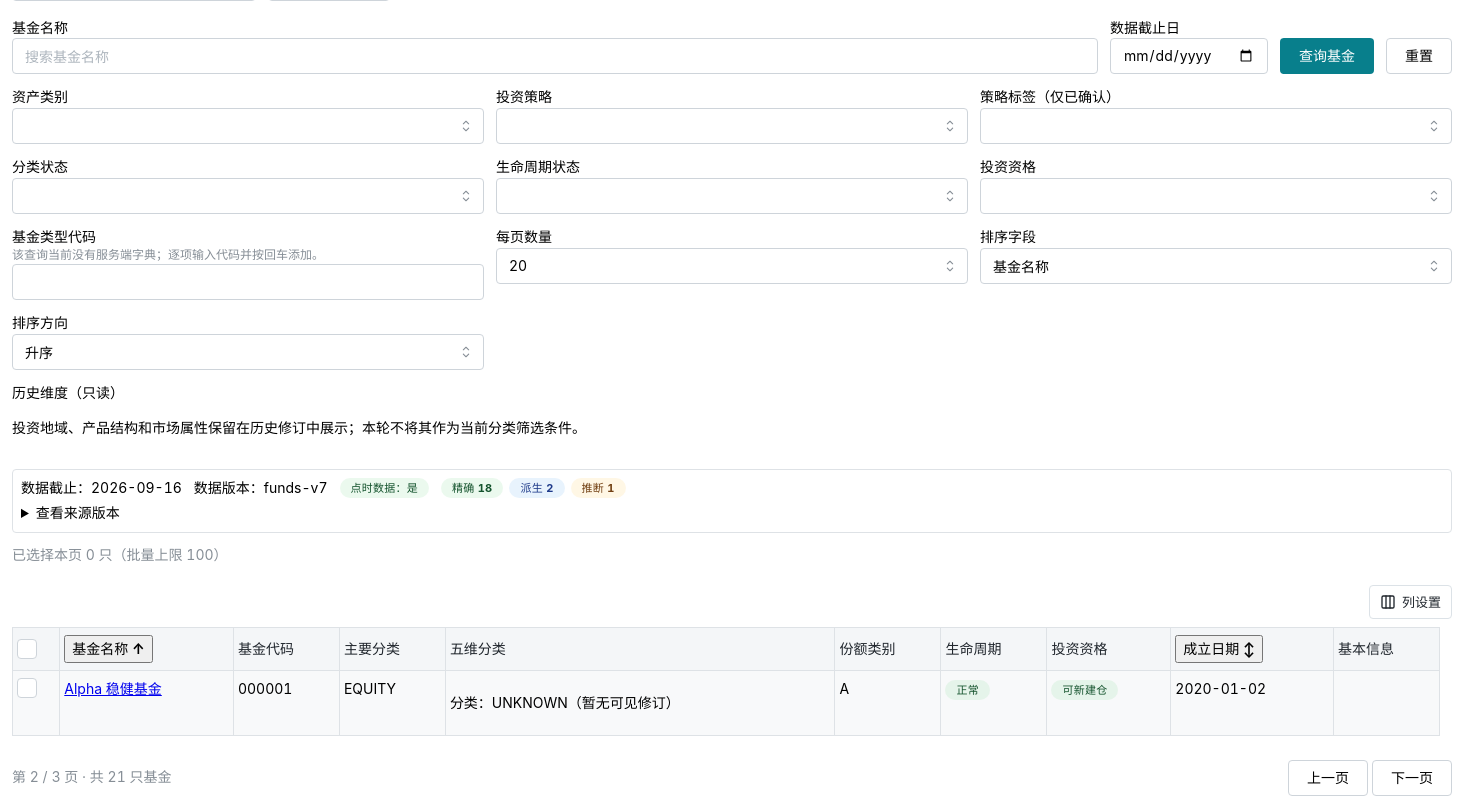
Test: FundResearchPage › shows readable lifecycle and investment eligibility statuses in results
This screenshot has width=1464, height=796.
(page scrolled)
Expected: the link "Alpha 稳健基金" is shown, [64,680,162,697]
Expected: the text "正常" is shown, [956,681,979,699]
Click the checkbox named "选择 Alpha 稳健基金" at (27,688), box [17,678,37,698]
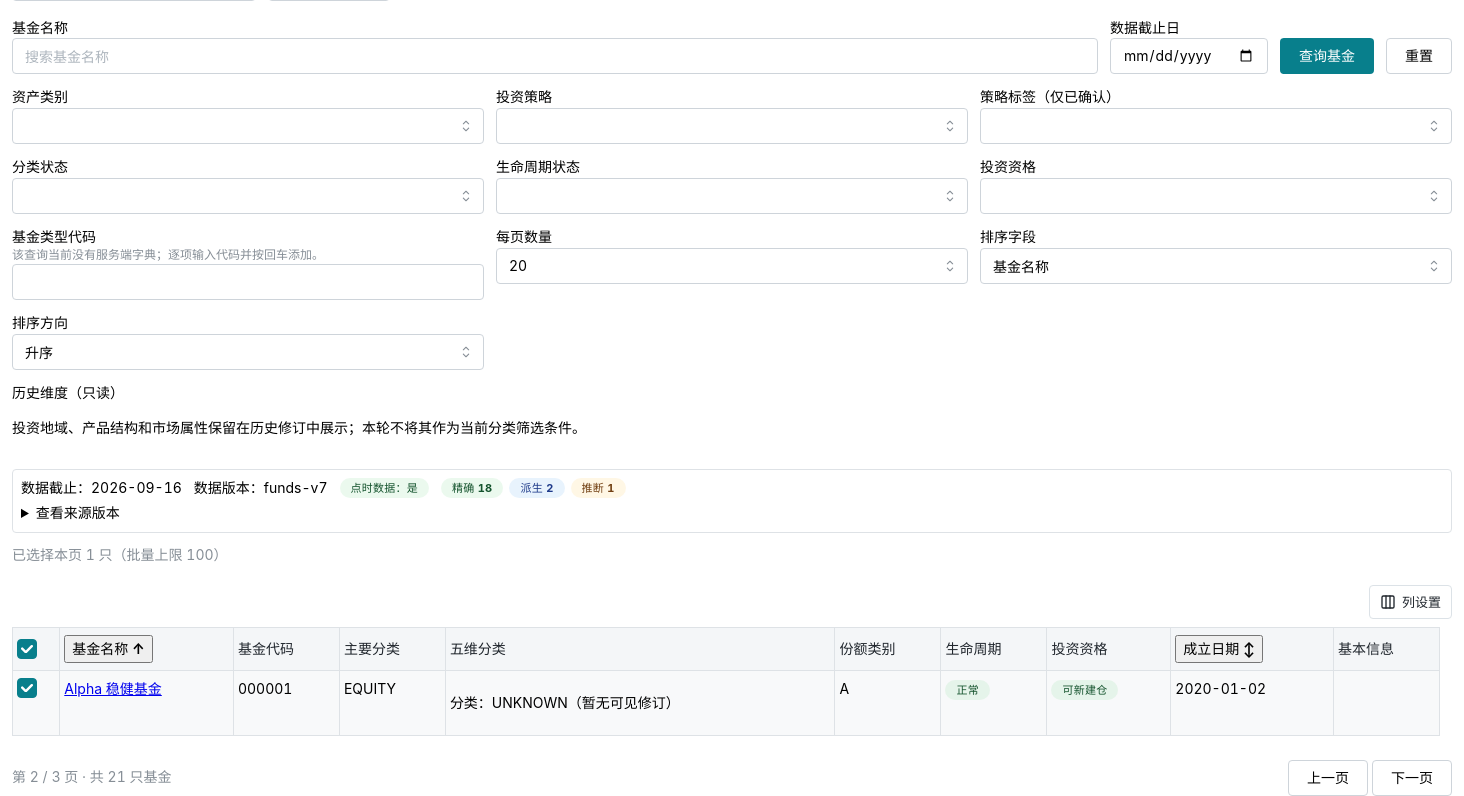
Expected: the text "已选择本页 1 只（批量上限 100）" is shown, [12,545,228,565]
